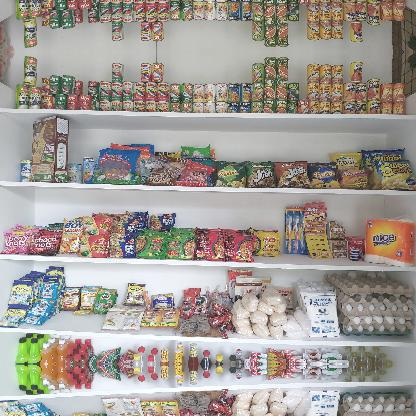Koko-Krunch: (31, 116, 69, 182)
